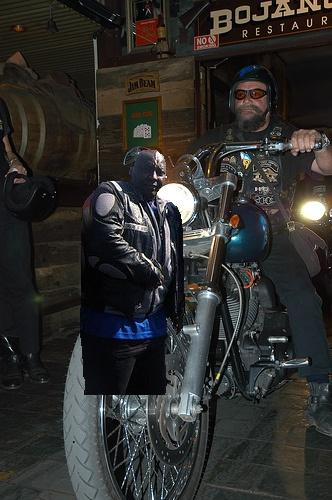tampered: (81, 151, 185, 395)
